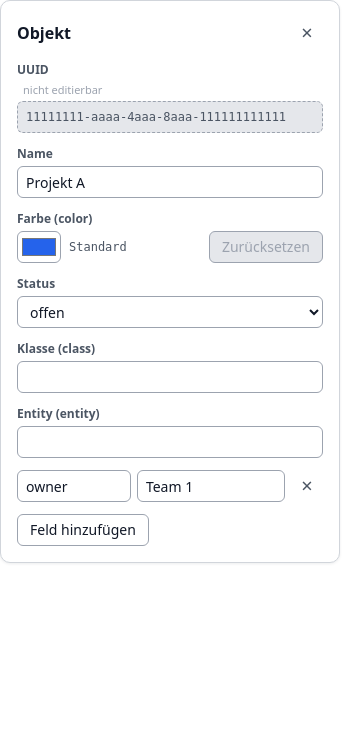
Test: Sidebar › invalid drafts › shows duplicate keys right away and does not apply them
Click the button "Feld hinzufügen".
click(83, 530)  # box left=17, top=514, right=149, bottom=546
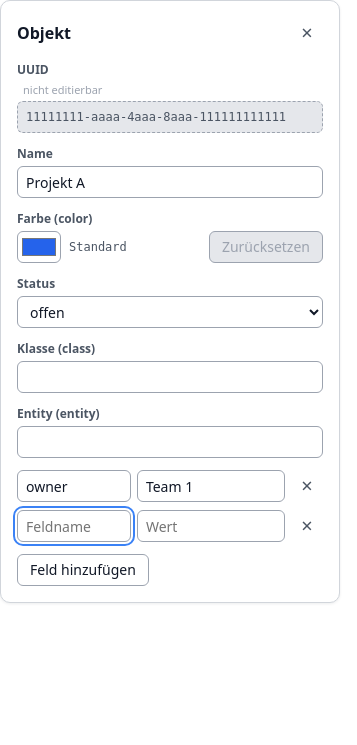
Type " owne" into the field labelled "Feldname".
click(74, 526); type(" owne")  # box left=17, top=510, right=131, bottom=542
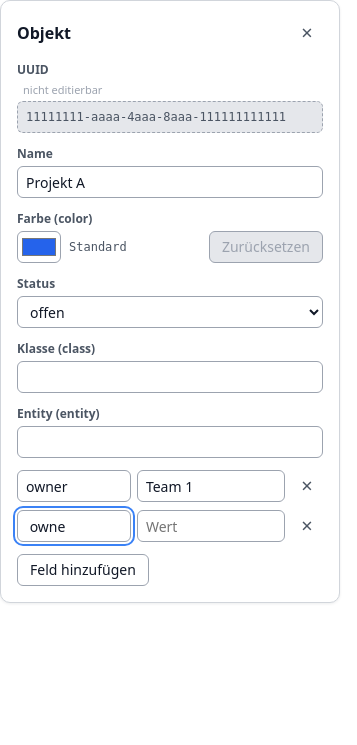
Click the button "Feld hinzufügen".
click(83, 570)  # box left=17, top=554, right=149, bottom=586
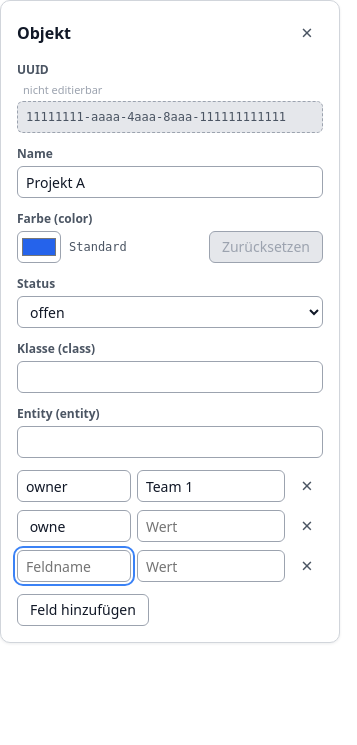
Type "nam" into the field labelled "Feldname".
click(74, 566); type("nam")  # box left=17, top=550, right=131, bottom=582
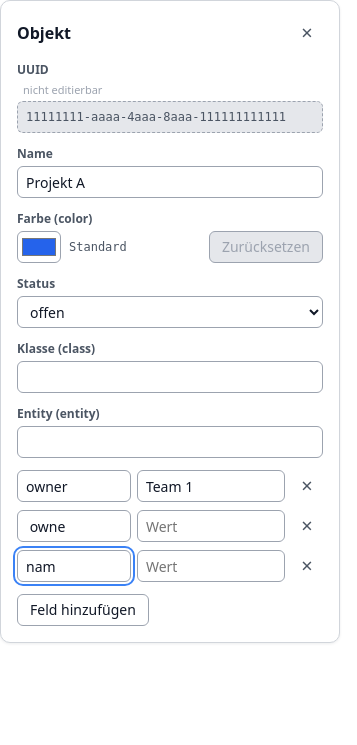
Type "r" into the 2nd field named "Feldname".
click(74, 526); type("r")  # box left=17, top=510, right=131, bottom=542
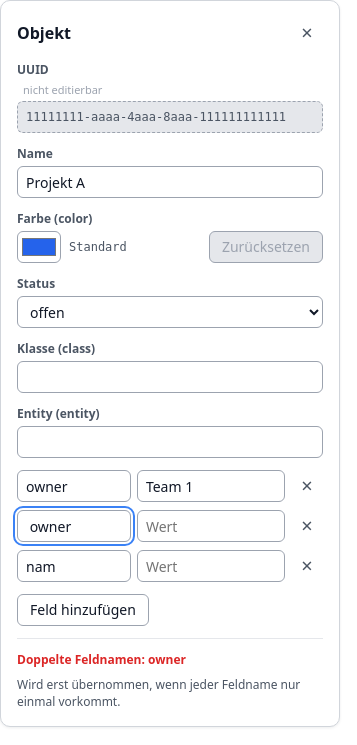
Type "e" into the 3rd field named "Feldname".
click(74, 566); type("e")  # box left=17, top=550, right=131, bottom=582
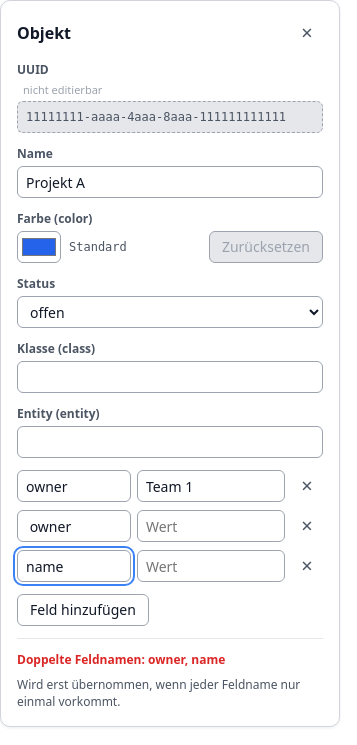
Check: the message reads "Doppelte Feldnamen: owner, name", box left=17, top=651, right=225, bottom=668
